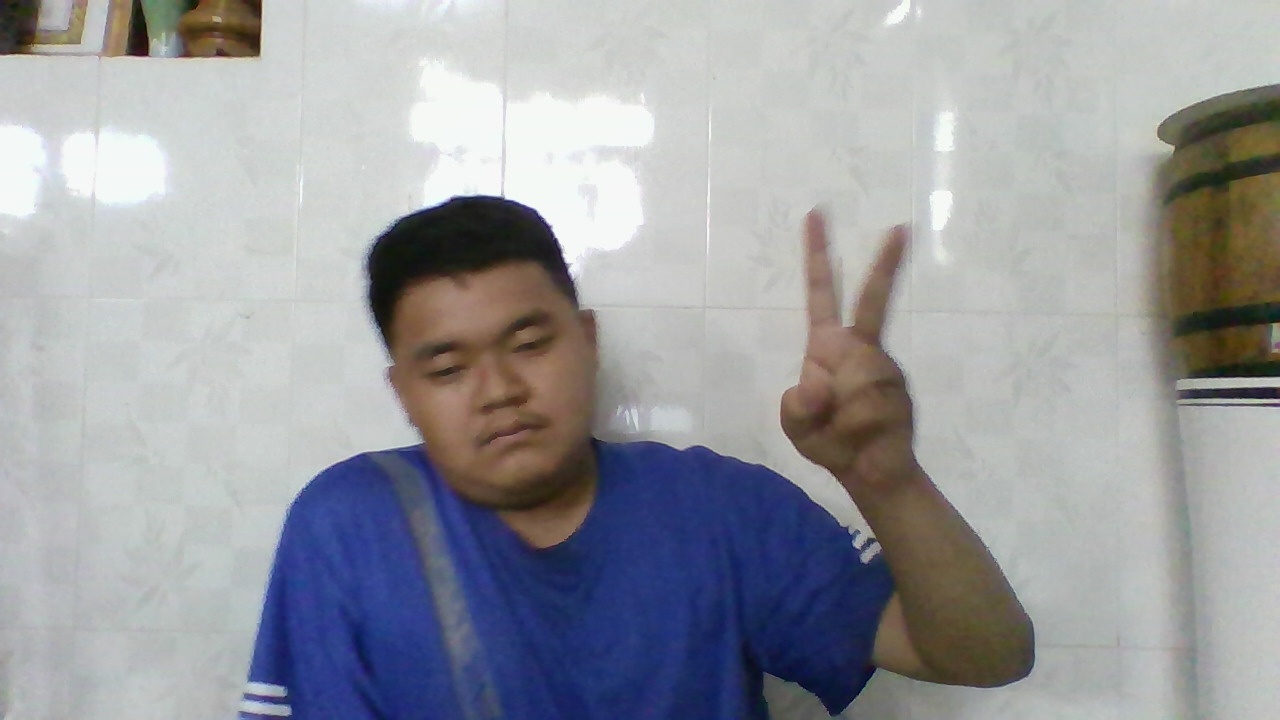V: (774, 207, 916, 485)
